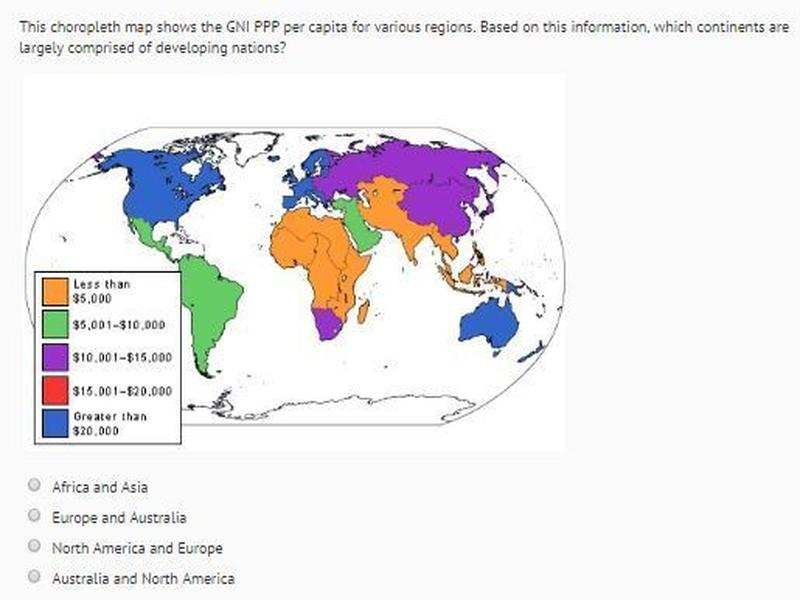legend: (32, 270, 183, 447)
